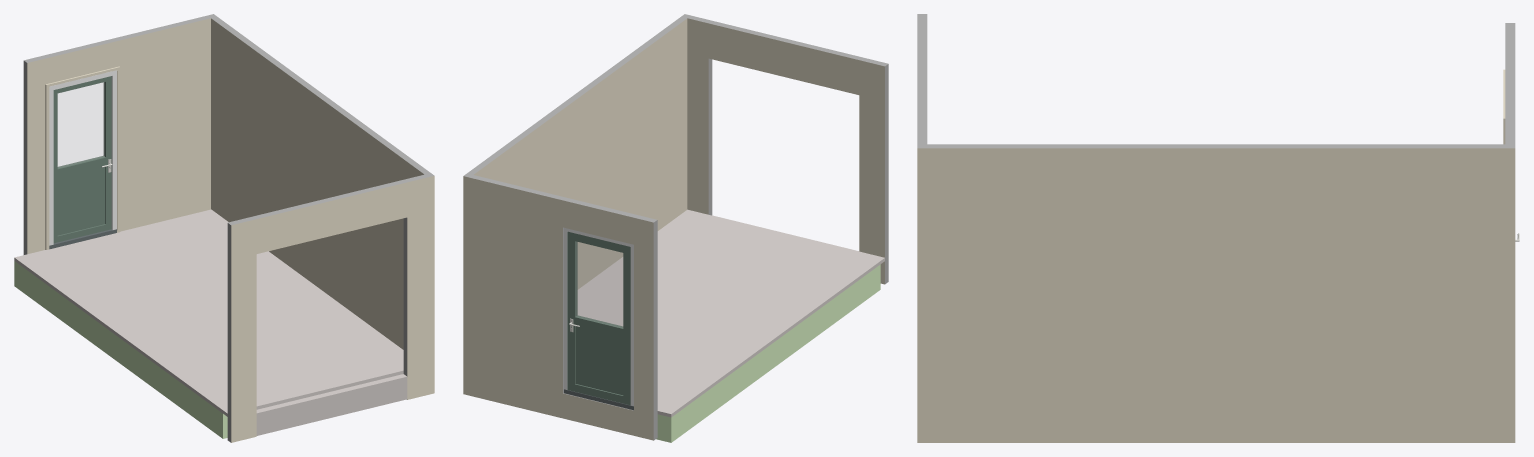
The picture shows the model from 3 angles, left to right: view 1: azimuth 30°, elevation 25°; view 2: azimuth 150°, elevation 25°; view 3: azimuth 270°, elevation 25°; orthographic projection. The views are drawn at different scales.
Parts seen in each view (by area): view 1: [7316255]43_afwerkvloer_50, [7316259]21_HSB-element, [7316260]21_HSB-element, [7316309]Merk D-002.sp 2, [7316258]21_HSB-element, [7316257]21_HSB-element, [7316296]21_HSB-element, [7316262]23_Geisoleerde VBI kanaalplaatvloer_Rc=5,0m²K/W, [7316248]16_Opstorting 370mm, [7316268]31_Stelkozijn halfsteens; view 2: [7316260]21_HSB-element, [7316255]43_afwerkvloer_50, [7316259]21_HSB-element, [7316309]Merk D-002.sp 2, [7316257]21_HSB-element, [7316296]21_HSB-element, [7316262]23_Geisoleerde VBI kanaalplaatvloer_Rc=5,0m²K/W, [7316258]21_HSB-element; view 3: [7316259]21_HSB-element, [7316260]21_HSB-element, [7316258]21_HSB-element, [7316296]21_HSB-element.
Boxes of the visible parts, x1,y1,x2,y2 form: [7316255]43_afwerkvloer_50: (14,209,403,416); [7316259]21_HSB-element: (211,16,430,349); [7316260]21_HSB-element: (23,14,216,254); [7316309]Merk D-002.sp 2: (49,70,116,249); [7316258]21_HSB-element: (403,173,434,399); [7316257]21_HSB-element: (227,216,256,442); [7316296]21_HSB-element: (253,180,407,253); [7316262]23_Geisoleerde VBI kanaalplaatvloer_Rc=5,0m²K/W: (14,261,227,438); [7316248]16_Opstorting 370mm: (256,374,407,435); [7316268]31_Stelkozijn halfsteens: (45,66,120,249); [7316260]21_HSB-element: (463,173,657,440); [7316255]43_afwerkvloer_50: (577,209,884,417); [7316259]21_HSB-element: (467,16,687,289); [7316309]Merk D-002.sp 2: (564,227,633,410); [7316257]21_HSB-element: (859,57,888,284); [7316296]21_HSB-element: (708,20,862,94); [7316262]23_Geisoleerde VBI kanaalplaatvloer_Rc=5,0m²K/W: (656,264,880,442); [7316258]21_HSB-element: (681,14,712,215); [7316259]21_HSB-element: (927,144,1505,442); [7316260]21_HSB-element: (1505,23,1515,442); [7316258]21_HSB-element: (917,130,927,442); [7316296]21_HSB-element: (917,31,927,130).
Size of the model in its own units: 3.19 by 3.29 by 6.04.
